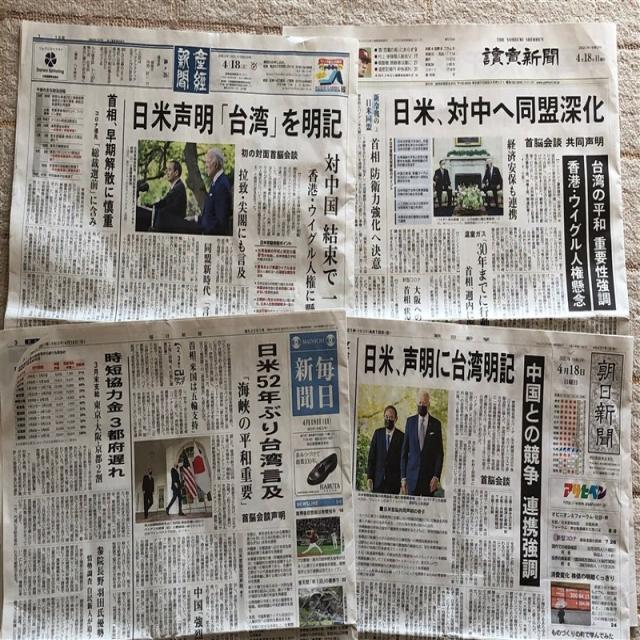newspaper: (0, 309, 351, 640), (2, 19, 352, 322), (349, 327, 640, 640), (352, 19, 627, 326)
